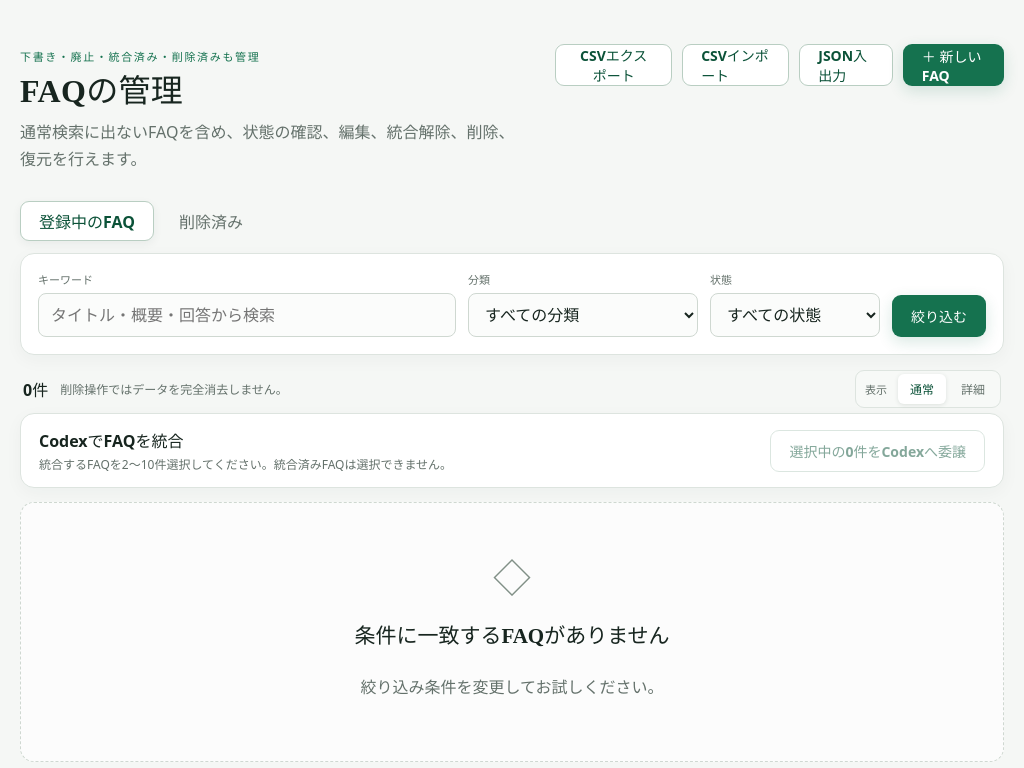
Test: ArticleManagementPage › lists deleted FAQs separately and restores them
Check: the heading "条件に一致するFAQがありません" is shown, box [354,619,670,649]
Click the button "削除済み" at (211, 221), box [160,201,262,241]
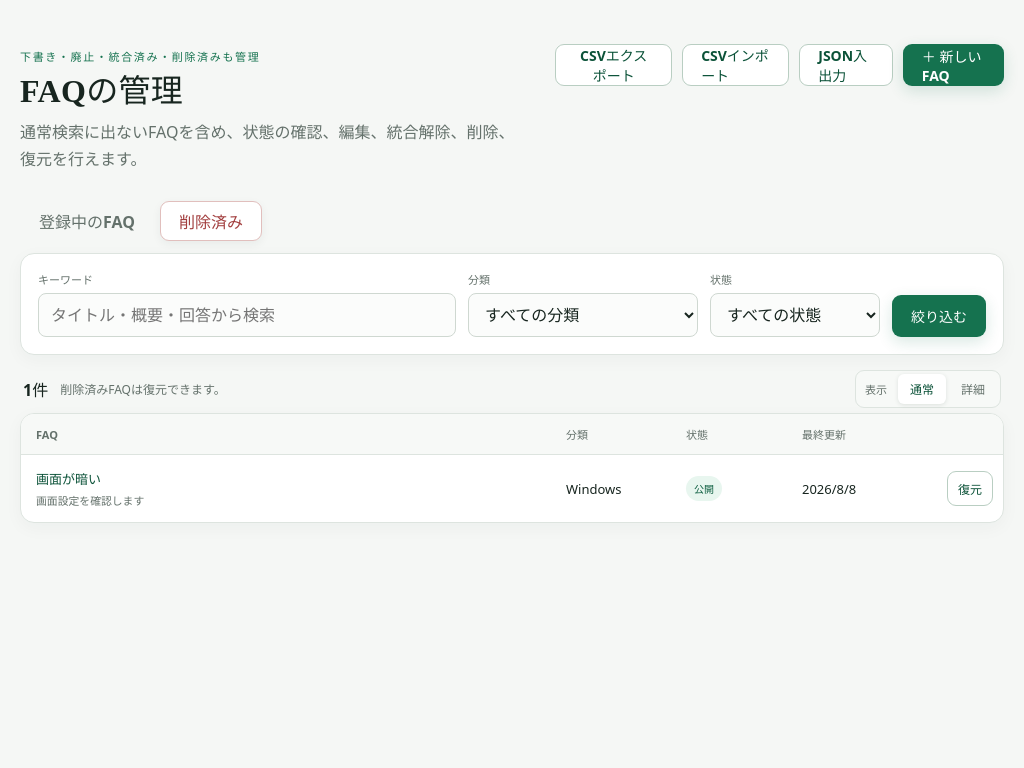
Check: the link "画面が暗い" is shown, box [36,470,101,488]
Click the button "復元" at (970, 489), box [947,471,993,506]
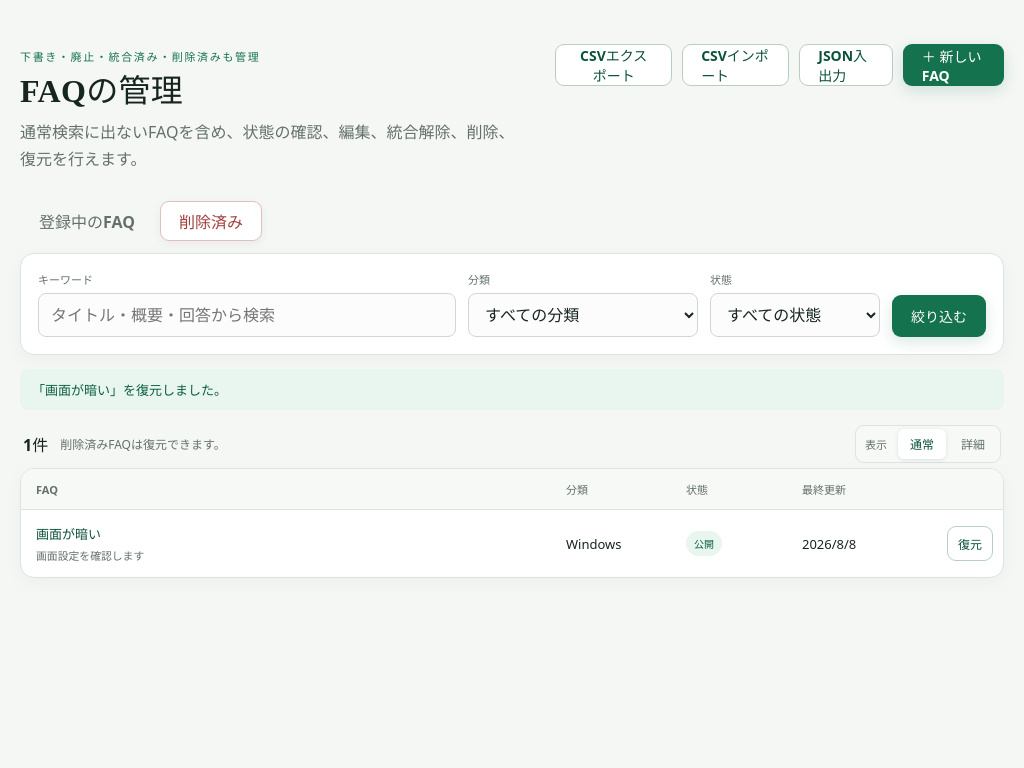
Check: the text "「画面が暗い」を復元しました。" is shown, box [20,369,1004,410]
